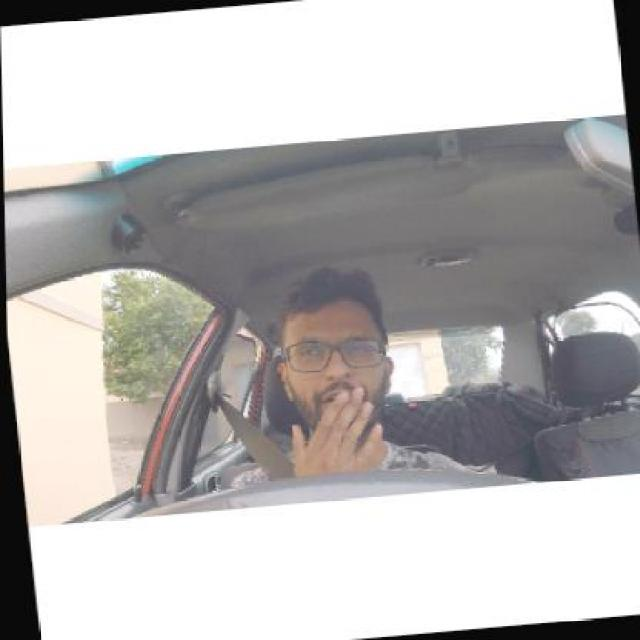drowsy: (269, 268, 404, 444)
